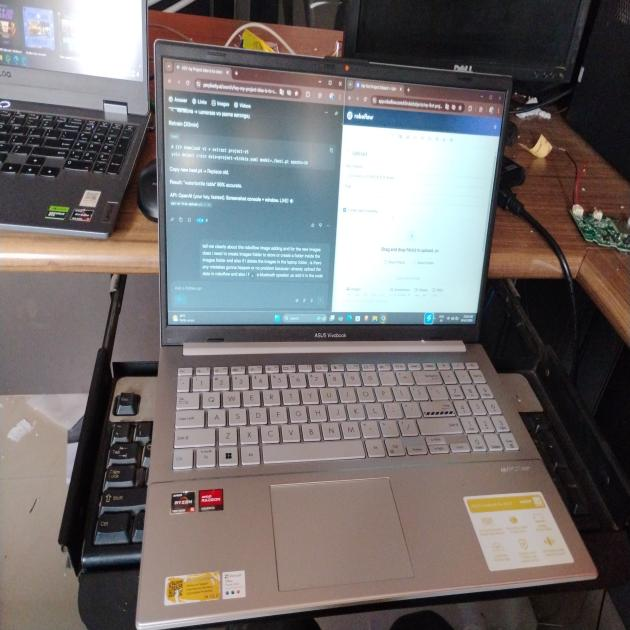laptop: (142, 20, 630, 630)
